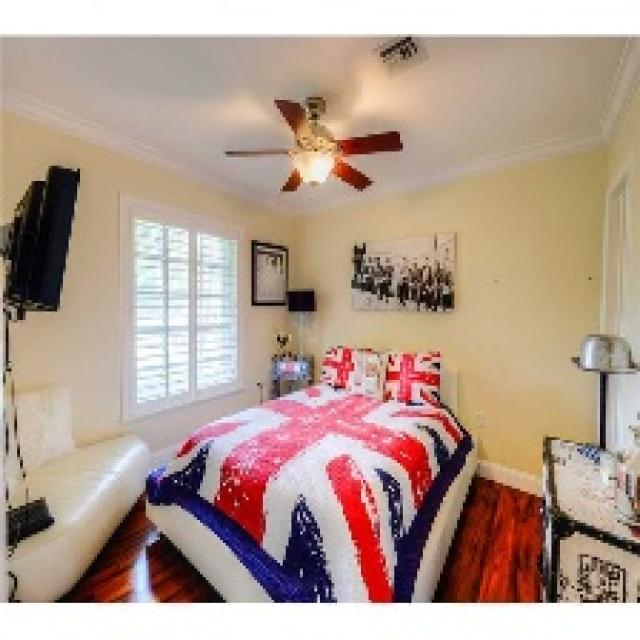Bed: (143, 363, 477, 603)
